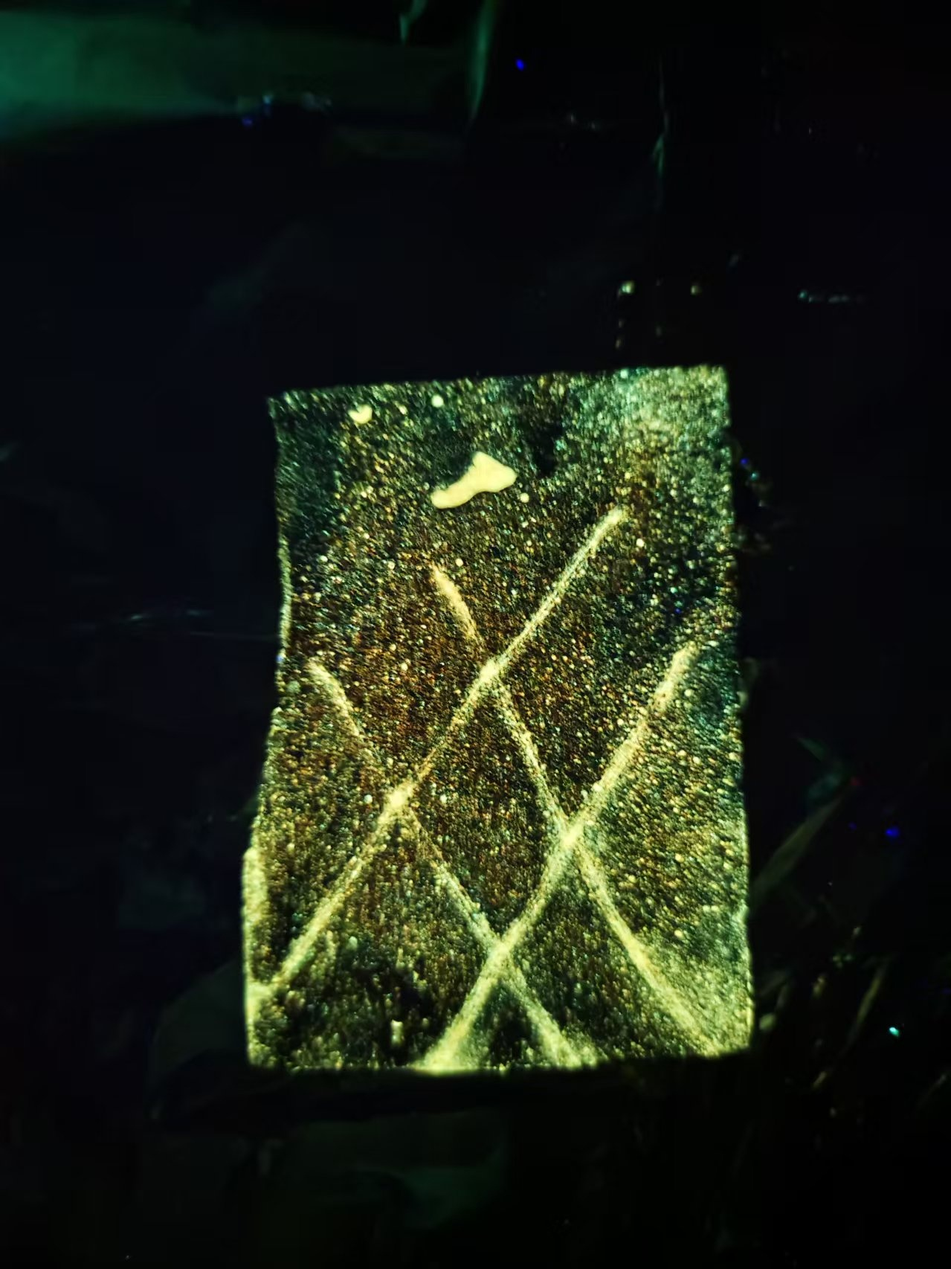Fissure: (238, 495, 638, 1001), (415, 545, 719, 1061), (421, 637, 698, 1065), (299, 639, 577, 1063)
